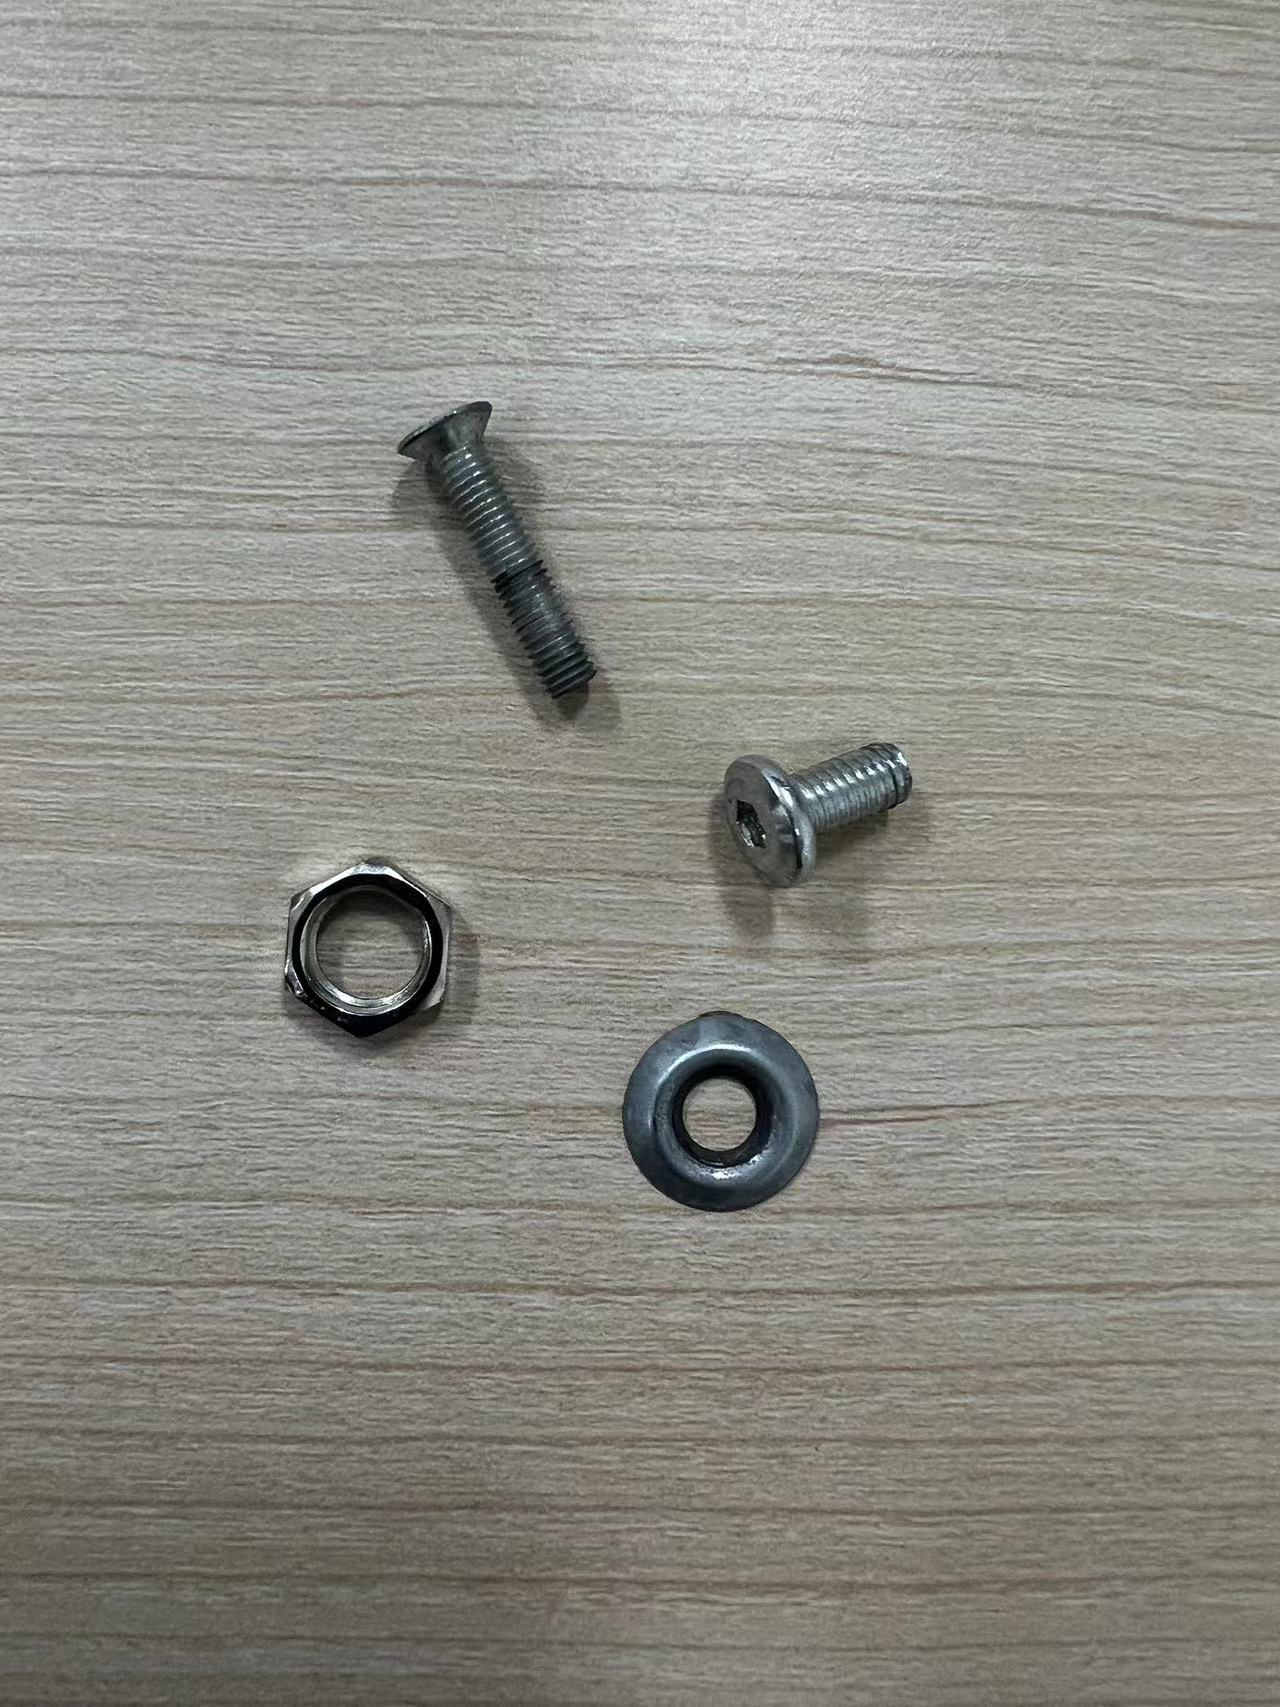Hexagon nut: (268, 844, 476, 1058)
Round head screw: (381, 391, 620, 724), (711, 728, 933, 905)
Spring washer: (610, 993, 836, 1227)
